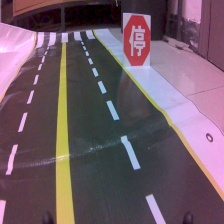stop: (121, 12, 152, 70)
